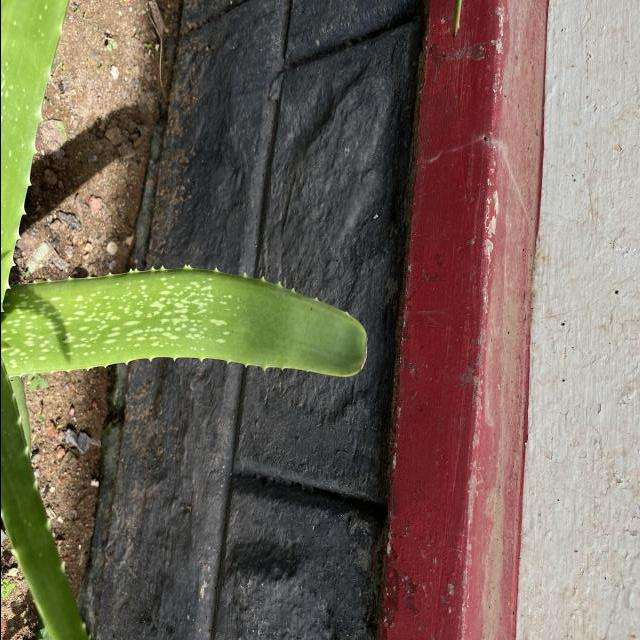Aloe vera: (0, 256, 373, 386)
